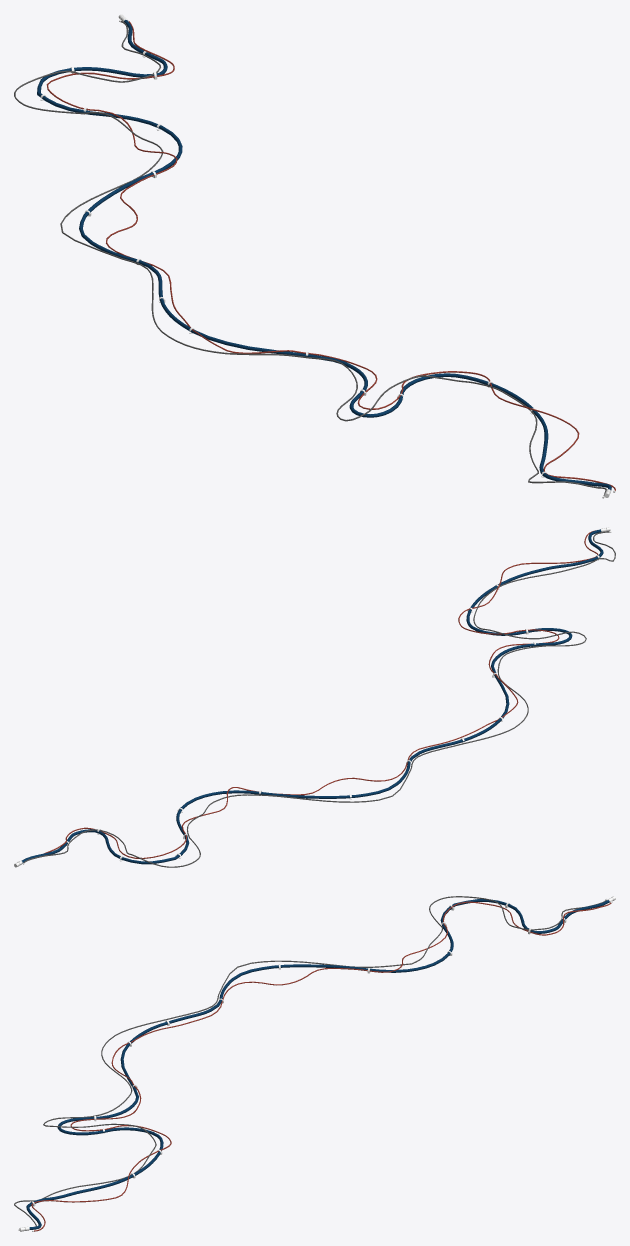
3 renders of one model, top to bottom at view 1: azimuth 30°, elevation 25°; view 2: azimuth 150°, elevation 25°; view 3: azimuth 330°, elevation 25°, orthographic. The views are drawn at different scales.
Visible parts, largest first — view 1: SM_H_Gibraltar_Props_Cable_Rubber_01A; view 2: SM_H_Gibraltar_Props_Cable_Rubber_01A; view 3: SM_H_Gibraltar_Props_Cable_Rubber_01A.
Boxes of the visible parts, x1=… form: SM_H_Gibraltar_Props_Cable_Rubber_01A: x1=14, y1=14, x2=615, y2=498; SM_H_Gibraltar_Props_Cable_Rubber_01A: x1=14, y1=527, x2=615, y2=867; SM_H_Gibraltar_Props_Cable_Rubber_01A: x1=14, y1=896, x2=615, y2=1231.
Bounding box in the file's own units: 576 × 160 × 4.34.
